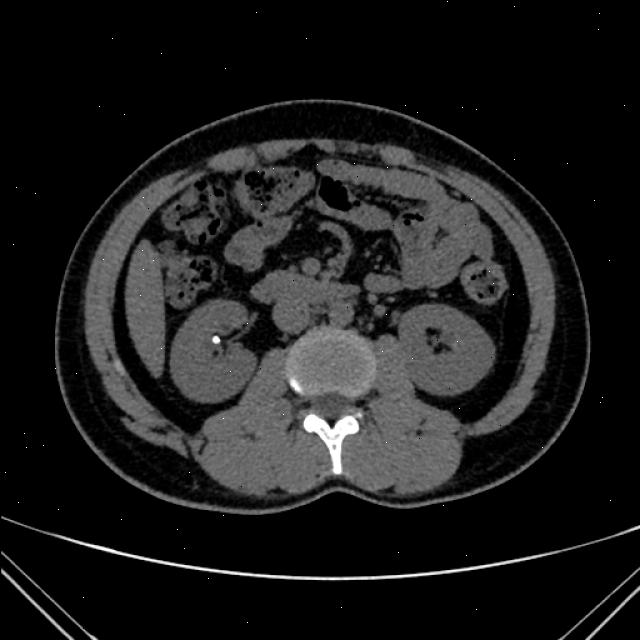kidneystone: (211, 335, 221, 344)
